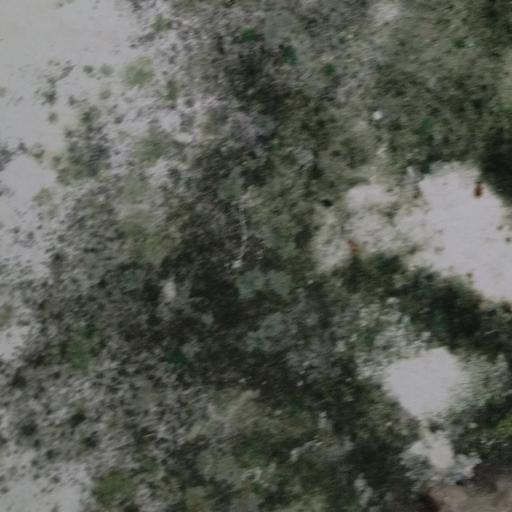algae: (33, 7, 512, 512)
